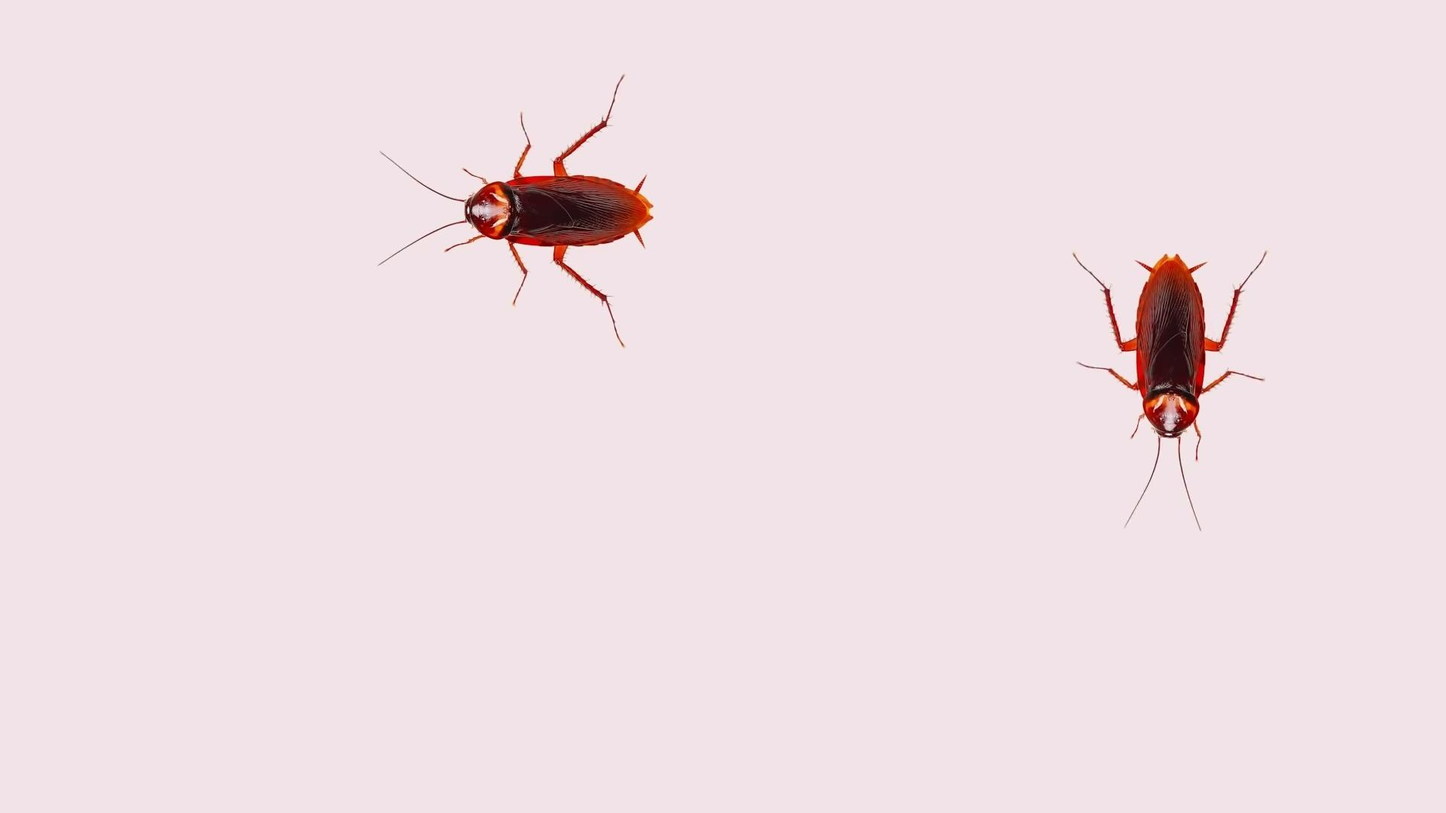cockroach: (1055, 222, 1269, 532), (377, 131, 673, 353)
